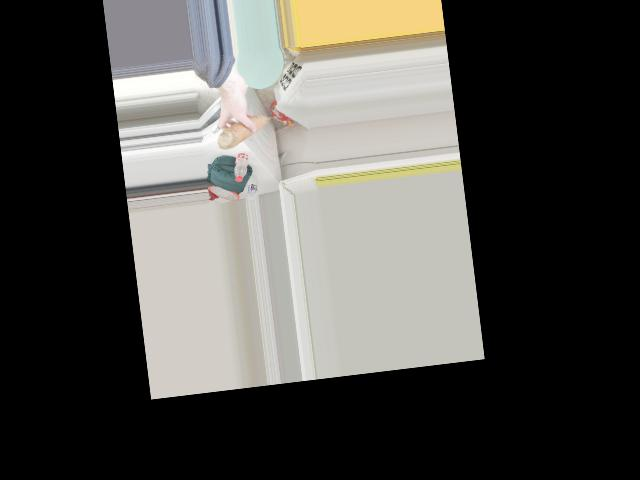sweet_potato: (217, 109, 269, 152)
